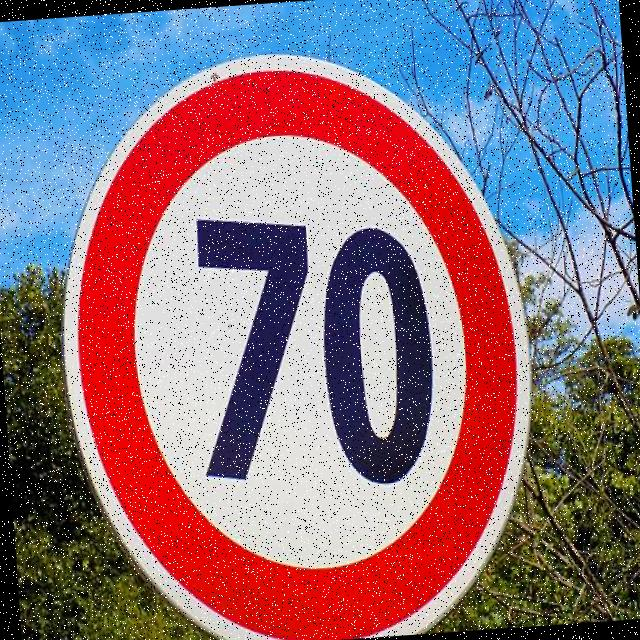speed_limit_70: (39, 29, 551, 640)
